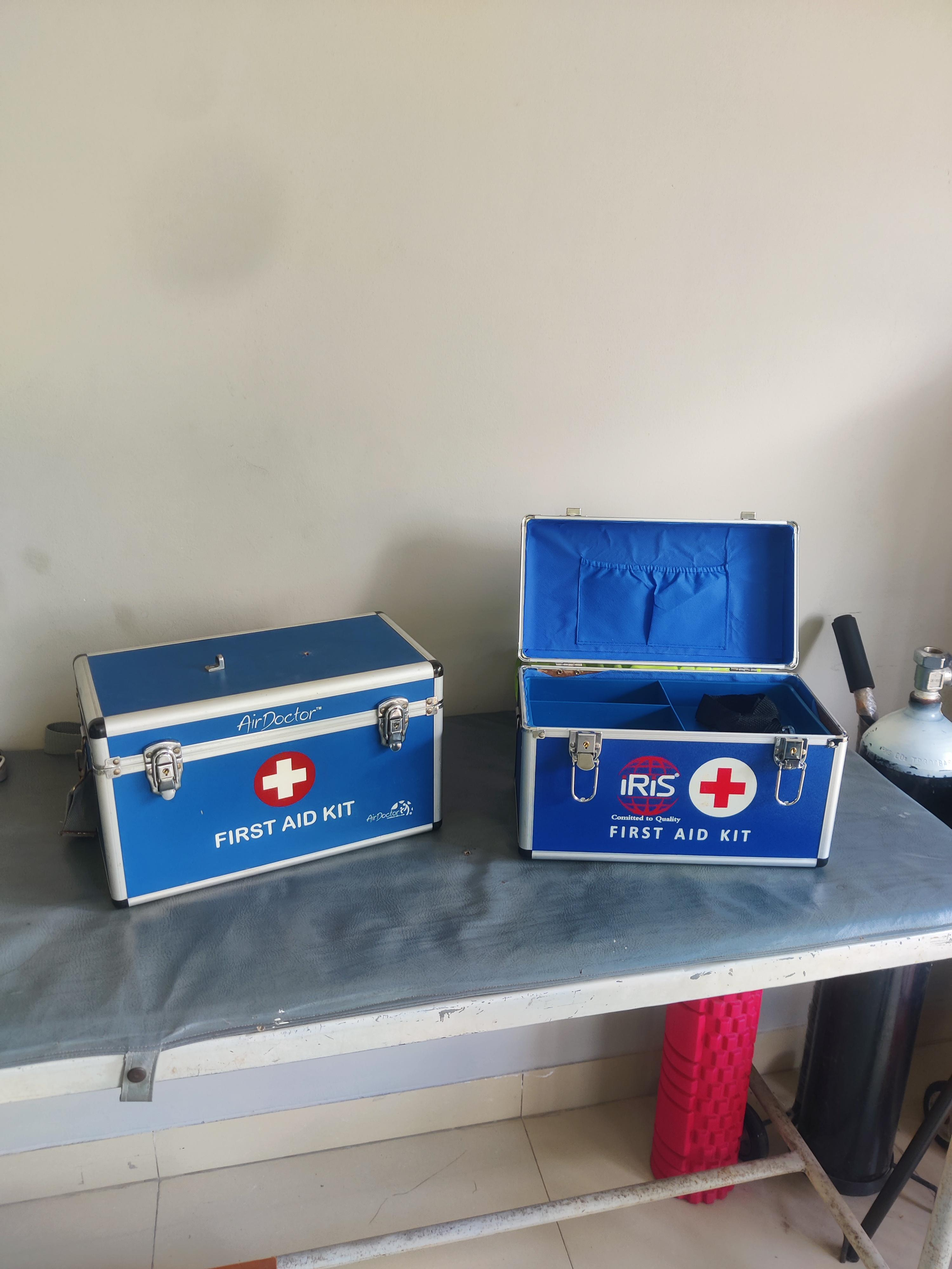FirstAidBox: (500, 491, 879, 891), (57, 598, 452, 950)
